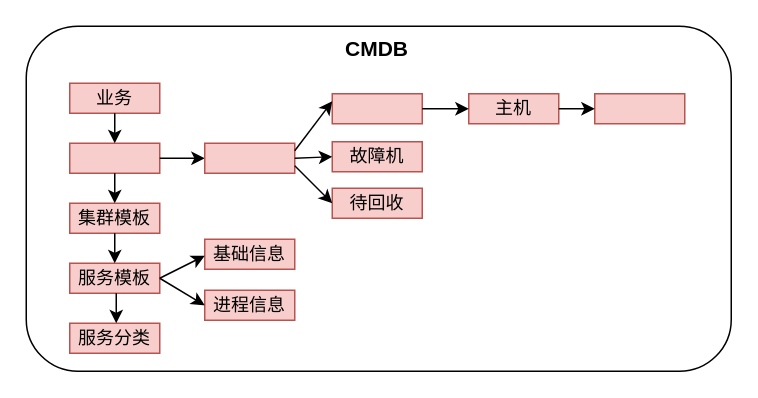
This 758x398 diagram has some shape labels left out. The shapes that lost their labels are listed below. From the top down, each one's centre as x and y in pixels, then its label:
[376,108]: 空闲机
[639,108]: 实例
[114,157]: 业务拓扑
[249,157]: 空闲机池
